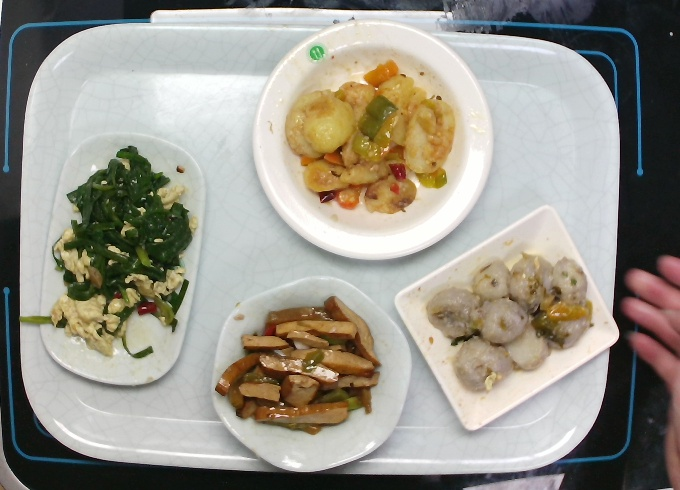WCQzf-Bai_Se_Si_Fang_Die: (390, 200, 626, 436)
WCQzf-Hua_Duo_Wan: (207, 270, 416, 477)
WCQzf-Kuan_Bian_Yuan_Die: (247, 18, 500, 266)
WCQzf-Tuo_Yuan_Pan: (35, 126, 210, 394)
